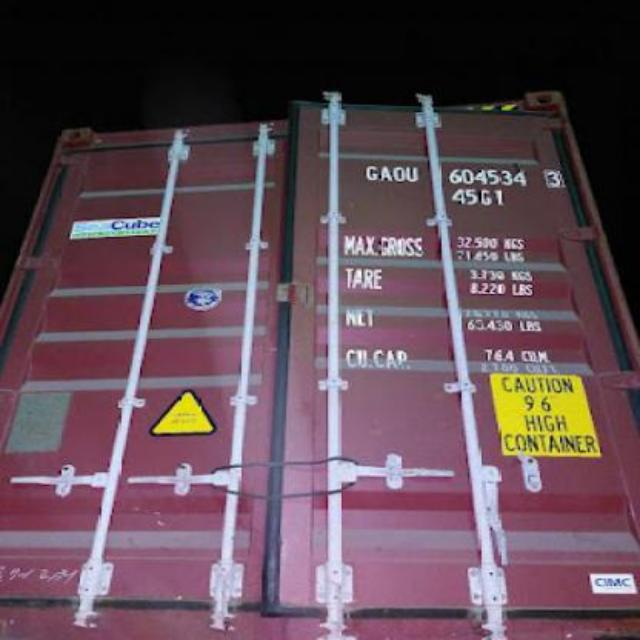0: (461, 158, 474, 186)
3: (542, 164, 568, 192), (500, 162, 512, 188)
4: (512, 164, 528, 192), (474, 160, 486, 190)
5: (486, 162, 498, 188)
6: (448, 162, 460, 182)
A: (376, 158, 392, 188)
G: (366, 158, 378, 180)
O: (392, 163, 404, 184)
U: (404, 160, 422, 188)
